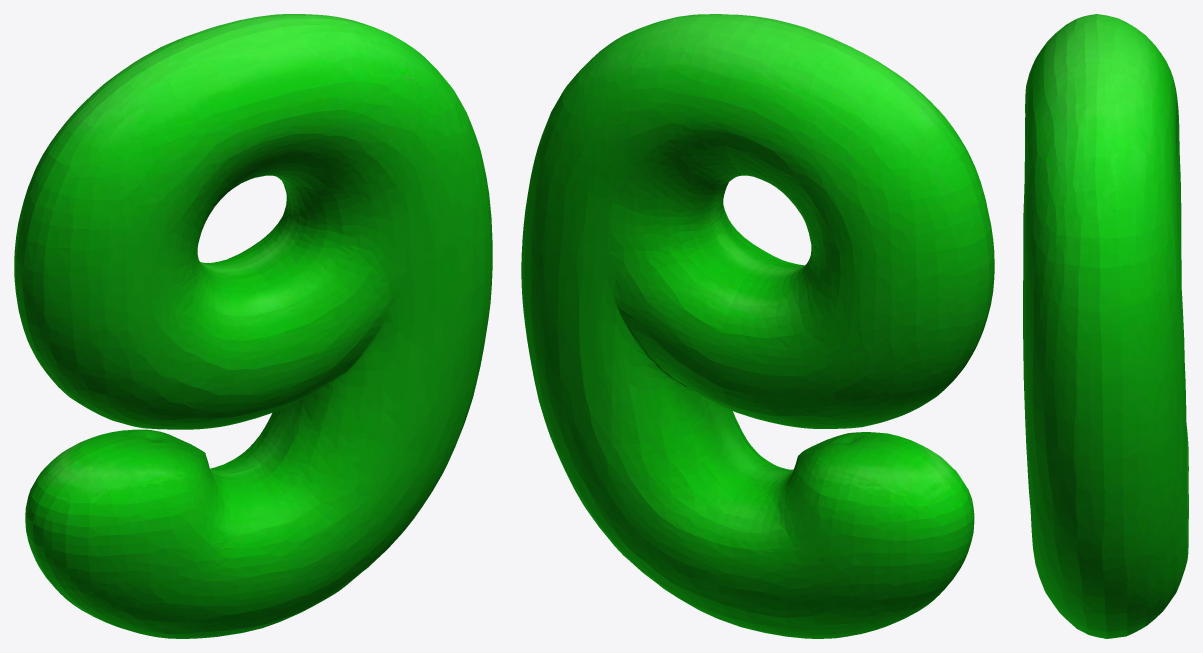
The picture shows the model from 3 angles, left to right: view 1: azimuth 30°, elevation 25°; view 2: azimuth 150°, elevation 25°; view 3: azimuth 270°, elevation 25°; orthographic projection. The views are drawn at different scales.
Parts seen in each view (by area): view 1: geometry_0; view 2: geometry_0; view 3: geometry_0.
Boxes of the visible parts, x1,y1,x2,y2 form: geometry_0: (14,14,492,638); geometry_0: (521,14,994,638); geometry_0: (1023,14,1188,638).
Bounding box in the file's own units: 0.8022 × 0.9996 × 0.2625.
1 material, 1 textured.
